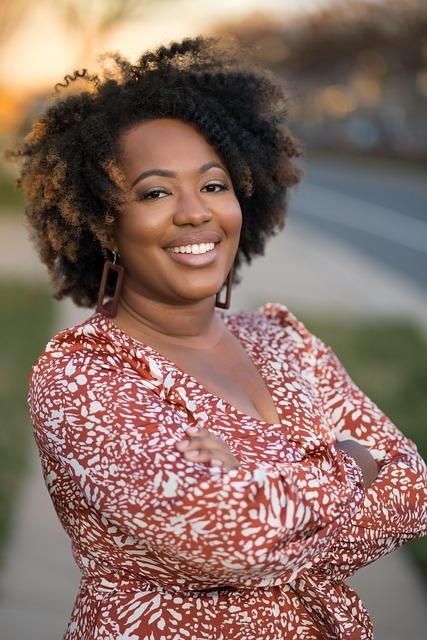Non_Gorille: (5, 44, 405, 624)
